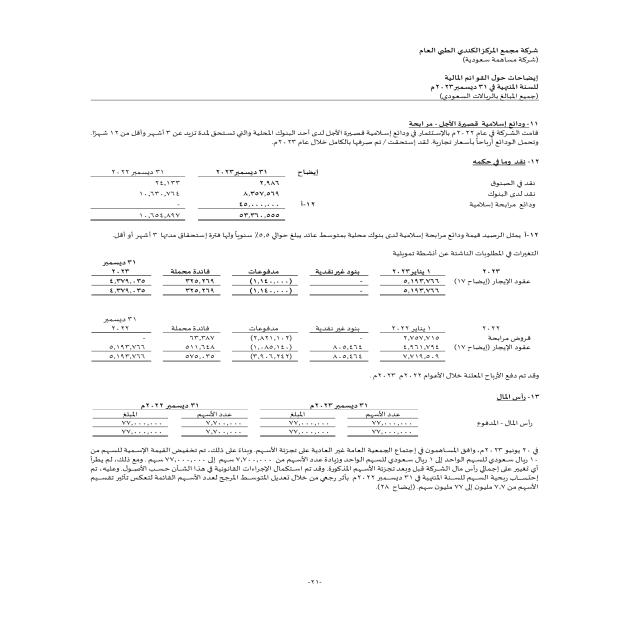notes: (432, 72, 542, 84)
table: (84, 322, 542, 367), (93, 261, 535, 303), (62, 158, 338, 222), (74, 399, 436, 443)
